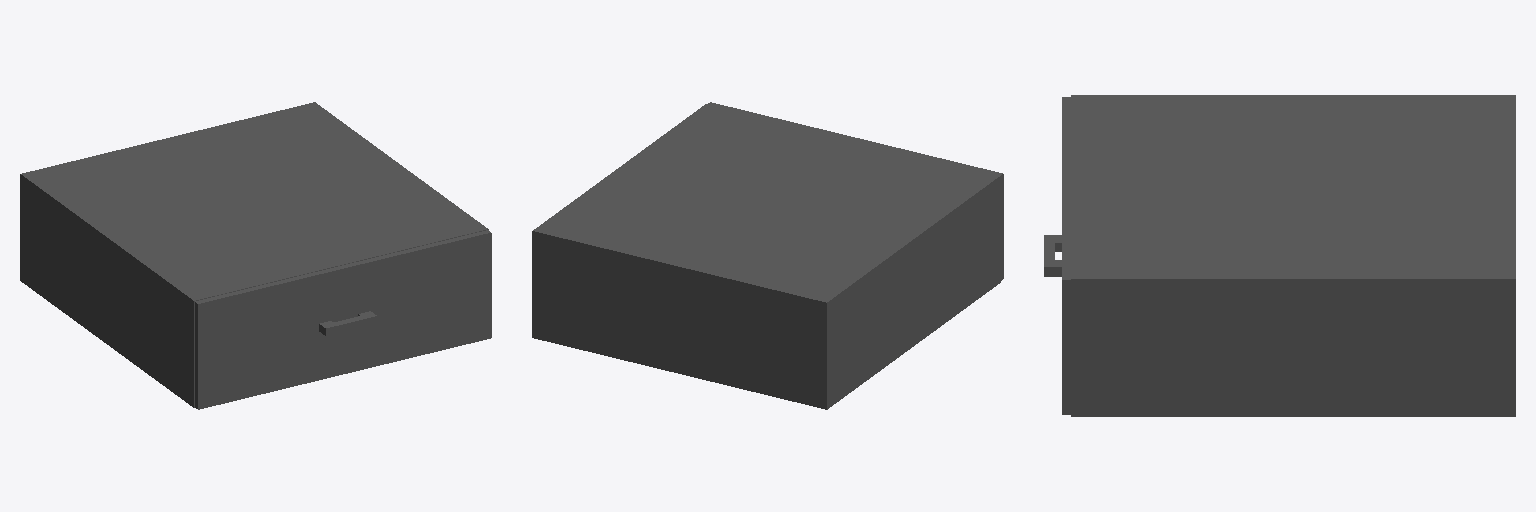
The robot description file, URDF, robot "Scene":
<?xml version='1.0' encoding='ASCII'?>
<robot name="Scene">
  <link name="cabinet_corpus">
    <inertial>
      <origin xyz="0.0 0.0 0.0" rpy="0.0 -0.0 0.0"/>
      <mass value="0.054318599999999995"/>
      <inertia ixx="1.0" ixy="0.0" ixz="0.0" iyy="1.0" iyz="0.0" izz="1.0"/>
    </inertial>
    <visual name="cabinet_back">
      <geometry>
        <box size="0.958 0.02 0.313"/>
      </geometry>
      <origin xyz="0.0 0.489 0.1565" rpy="0.0 -0.0 0.0"/>
      <material name="cabinet_back_main_color">
        <color rgba="0.4 0.4 0.4 1.0"/>
      </material>
    </visual>
    <visual name="cabinet_left">
      <geometry>
        <box size="0.02 0.958 0.313"/>
      </geometry>
      <origin xyz="-0.469 0.0 0.1565" rpy="0.0 -0.0 0.0"/>
      <material name="cabinet_left_main_color">
        <color rgba="0.4 0.4 0.4 1.0"/>
      </material>
    </visual>
    <visual name="cabinet_right">
      <geometry>
        <box size="0.02 0.958 0.313"/>
      </geometry>
      <origin xyz="0.469 0.0 0.1565" rpy="0.0 -0.0 0.0"/>
      <material name="cabinet_right_main_color">
        <color rgba="0.4 0.4 0.4 1.0"/>
      </material>
    </visual>
    <visual name="cabinet_surface_0_0">
      <geometry>
        <box size="0.9179999999999999 0.958 0.02"/>
      </geometry>
      <origin xyz="0.0 0.0 0.009999999999999962" rpy="0.0 -0.0 0.0"/>
      <material name="cabinet_surface_0_0_main_color">
        <color rgba="0.4 0.4 0.4 1.0"/>
      </material>
    </visual>
    <visual name="cabinet_top">
      <geometry>
        <box size="0.958 0.978 0.02"/>
      </geometry>
      <origin xyz="0.0 0.01 0.323" rpy="0.0 -0.0 0.0"/>
      <material name="cabinet_top_main_color">
        <color rgba="0.4 0.4 0.4 1.0"/>
      </material>
    </visual>
    <collision name="cabinet_back">
      <geometry>
        <box size="0.958 0.02 0.313"/>
      </geometry>
      <origin xyz="0.0 0.489 0.1565" rpy="0.0 -0.0 0.0"/>
    </collision>
    <collision name="cabinet_left">
      <geometry>
        <box size="0.02 0.958 0.313"/>
      </geometry>
      <origin xyz="-0.469 0.0 0.1565" rpy="0.0 -0.0 0.0"/>
    </collision>
    <collision name="cabinet_right">
      <geometry>
        <box size="0.02 0.958 0.313"/>
      </geometry>
      <origin xyz="0.469 0.0 0.1565" rpy="0.0 -0.0 0.0"/>
    </collision>
    <collision name="cabinet_surface_0_0">
      <geometry>
        <box size="0.9179999999999999 0.958 0.02"/>
      </geometry>
      <origin xyz="0.0 0.0 0.009999999999999962" rpy="0.0 -0.0 0.0"/>
    </collision>
    <collision name="cabinet_top">
      <geometry>
        <box size="0.958 0.978 0.02"/>
      </geometry>
      <origin xyz="0.0 0.01 0.323" rpy="0.0 -0.0 0.0"/>
    </collision>
  </link>
  <link name="cabinet_drawer_0_0">
    <inertial>
      <origin xyz="0.0 0.0 0.0" rpy="0.0 -0.0 0.0"/>
      <mass value="0.1"/>
      <inertia ixx="1.0" ixy="0.0" ixz="0.0" iyy="1.0" iyz="0.0" izz="1.0"/>
    </inertial>
    <visual name="cabinet_drawer_0_0_board_0">
      <geometry>
        <box size="0.954 0.02 0.32900000000000007"/>
      </geometry>
      <origin xyz="0.0 -0.01 0.0" rpy="0.0 -0.0 0.0"/>
      <material name="cabinet_drawer_0_0_board_0_main_color">
        <color rgba="0.4 0.4 0.4 1.0"/>
      </material>
    </visual>
    <visual name="cabinet_drawer_0_0_board_1">
      <geometry>
        <box size="0.8979999999999999 0.8552 0.005"/>
      </geometry>
      <origin xyz="0.0 0.4276 -0.139" rpy="0.0 -0.0 0.0"/>
      <material name="cabinet_drawer_0_0_board_1_main_color">
        <color rgba="0.4 0.4 0.4 1.0"/>
      </material>
    </visual>
    <visual name="cabinet_drawer_0_0_board_2">
      <geometry>
        <box size="0.005 0.8552 0.28300000000000003"/>
      </geometry>
      <origin xyz="-0.45149999999999996 0.4276 0.0" rpy="0.0 -0.0 0.0"/>
      <material name="cabinet_drawer_0_0_board_2_main_color">
        <color rgba="0.4 0.4 0.4 1.0"/>
      </material>
    </visual>
    <visual name="cabinet_drawer_0_0_board_3">
      <geometry>
        <box size="0.005 0.8552 0.28300000000000003"/>
      </geometry>
      <origin xyz="0.45149999999999996 0.4276 0.0" rpy="0.0 -0.0 0.0"/>
      <material name="cabinet_drawer_0_0_board_3_main_color">
        <color rgba="0.4 0.4 0.4 1.0"/>
      </material>
    </visual>
    <visual name="cabinet_drawer_0_0_board_4">
      <geometry>
        <box size="0.9079999999999999 0.005 0.28300000000000003"/>
      </geometry>
      <origin xyz="0.0 0.8577 0.0" rpy="0.0 -0.0 0.0"/>
      <material name="cabinet_drawer_0_0_board_4_main_color">
        <color rgba="0.4 0.4 0.4 1.0"/>
      </material>
    </visual>
    <visual name="cabinet_drawer_0_0_handle_part_0">
      <geometry>
        <box size="0.024 0.1682 0.024"/>
      </geometry>
      <origin xyz="-9.748438587302075e-35 -0.046 1.5920408388915591e-18" rpy="3.141592653589793 6.123233995736766e-17 1.5707963267948966"/>
      <material name="cabinet_drawer_0_0_handle_part_0_main_color">
        <color rgba="0.4 0.4 0.4 1.0"/>
      </material>
    </visual>
    <visual name="cabinet_drawer_0_0_handle_part_1">
      <geometry>
        <box size="0.013999999999999999 0.04 0.024"/>
      </geometry>
      <origin xyz="-0.06409999999999999 -0.027 -7.421359602832959e-18" rpy="3.141592653589793 6.123233995736766e-17 1.5707963267948966"/>
      <material name="cabinet_drawer_0_0_handle_part_1_main_color">
        <color rgba="0.4 0.4 0.4 1.0"/>
      </material>
    </visual>
    <visual name="cabinet_drawer_0_0_handle_part_2">
      <geometry>
        <box size="0.013999999999999999 0.04 0.024"/>
      </geometry>
      <origin xyz="0.06409999999999999 -0.027 8.278612362236106e-18" rpy="3.141592653589793 6.123233995736766e-17 1.5707963267948966"/>
      <material name="cabinet_drawer_0_0_handle_part_2_main_color">
        <color rgba="0.4 0.4 0.4 1.0"/>
      </material>
    </visual>
    <collision name="cabinet_drawer_0_0_board_0">
      <geometry>
        <box size="0.954 0.02 0.32900000000000007"/>
      </geometry>
      <origin xyz="0.0 -0.01 0.0" rpy="0.0 -0.0 0.0"/>
    </collision>
    <collision name="cabinet_drawer_0_0_board_1">
      <geometry>
        <box size="0.8979999999999999 0.8552 0.005"/>
      </geometry>
      <origin xyz="0.0 0.4276 -0.139" rpy="0.0 -0.0 0.0"/>
    </collision>
    <collision name="cabinet_drawer_0_0_board_2">
      <geometry>
        <box size="0.005 0.8552 0.28300000000000003"/>
      </geometry>
      <origin xyz="-0.45149999999999996 0.4276 0.0" rpy="0.0 -0.0 0.0"/>
    </collision>
    <collision name="cabinet_drawer_0_0_board_3">
      <geometry>
        <box size="0.005 0.8552 0.28300000000000003"/>
      </geometry>
      <origin xyz="0.45149999999999996 0.4276 0.0" rpy="0.0 -0.0 0.0"/>
    </collision>
    <collision name="cabinet_drawer_0_0_board_4">
      <geometry>
        <box size="0.9079999999999999 0.005 0.28300000000000003"/>
      </geometry>
      <origin xyz="0.0 0.8577 0.0" rpy="0.0 -0.0 0.0"/>
    </collision>
    <collision name="cabinet_drawer_0_0_handle_part_0">
      <geometry>
        <box size="0.024 0.1682 0.024"/>
      </geometry>
      <origin xyz="-9.748438587302075e-35 -0.046 1.5920408388915591e-18" rpy="3.141592653589793 6.123233995736766e-17 1.5707963267948966"/>
    </collision>
    <collision name="cabinet_drawer_0_0_handle_part_1">
      <geometry>
        <box size="0.013999999999999999 0.04 0.024"/>
      </geometry>
      <origin xyz="-0.06409999999999999 -0.027 -7.421359602832959e-18" rpy="3.141592653589793 6.123233995736766e-17 1.5707963267948966"/>
    </collision>
    <collision name="cabinet_drawer_0_0_handle_part_2">
      <geometry>
        <box size="0.013999999999999999 0.04 0.024"/>
      </geometry>
      <origin xyz="0.06409999999999999 -0.027 8.278612362236106e-18" rpy="3.141592653589793 6.123233995736766e-17 1.5707963267948966"/>
    </collision>
  </link>
  <link name="world"/>
  <link name="cabinet"/>
  <joint name="cabinet_world_fixed_joint" type="fixed">
    <parent link="world"/>
    <child link="cabinet"/>
    <origin xyz="0.0 0.0 0.0" rpy="0.0 -0.0 0.0"/>
  </joint>
  <joint name="cabinet_corpus_to_drawer_0_0" type="prismatic">
    <parent link="cabinet_corpus"/>
    <child link="cabinet_drawer_0_0"/>
    <origin xyz="0.0 -0.479 0.16649999999999998" rpy="0.0 -0.0 0.0"/>
    <axis xyz="0 -1 0"/>
    <limit effort="1000.0" velocity="1.0" lower="0.0" upper="0.79218"/>
  </joint>
  <joint name="cabinet_origin_joint" type="fixed">
    <parent link="cabinet"/>
    <child link="cabinet_corpus"/>
    <origin xyz="0.0 0.0 0.0" rpy="0.0 -0.0 0.0"/>
  </joint>
</robot>

--- What the picture shows (computed from the rendered views, not written in the file) ---
Views: 3 orthographic renders of the robot side by side, from view 1: azimuth 30°, elevation 25°; view 2: azimuth 150°, elevation 25°; view 3: azimuth 270°, elevation 25°.
Robot: Scene — 4 links, 3 joints (1 prismatic, 2 fixed); root link world; default pose: all joints at 0.
Visible links, largest first — view 1: cabinet_corpus, cabinet_drawer_0_0; view 2: cabinet_corpus, cabinet_drawer_0_0; view 3: cabinet_corpus, cabinet_drawer_0_0.
Link boxes in pixels (x1,y1,x2,y2): cabinet_corpus: (20,102,488,407); cabinet_drawer_0_0: (195,230,491,409); cabinet_corpus: (532,104,1000,409); cabinet_drawer_0_0: (708,102,1003,280); cabinet_corpus: (1071,95,1515,416); cabinet_drawer_0_0: (1044,97,1070,414).
Bounding box of the posed robot: 0.958 × 1.04 × 0.333 m (x, y, z).
Geometry: primitives only (box / cylinder / sphere), no mesh files.